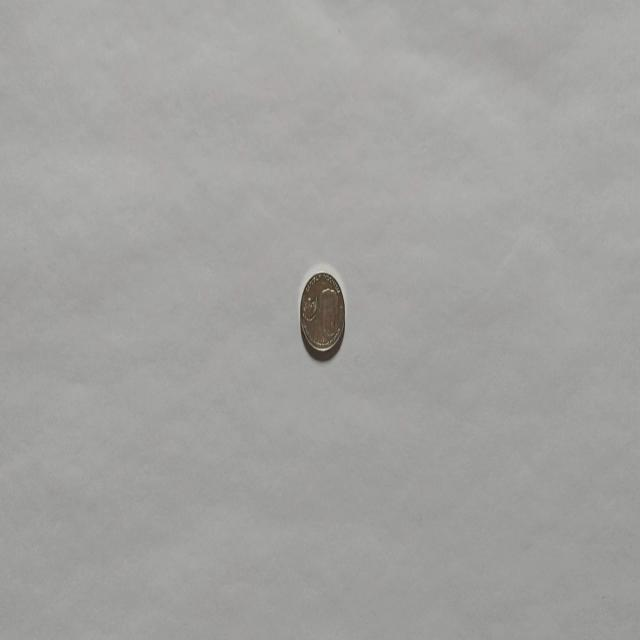seratus rupiah: (298, 270, 346, 358)
